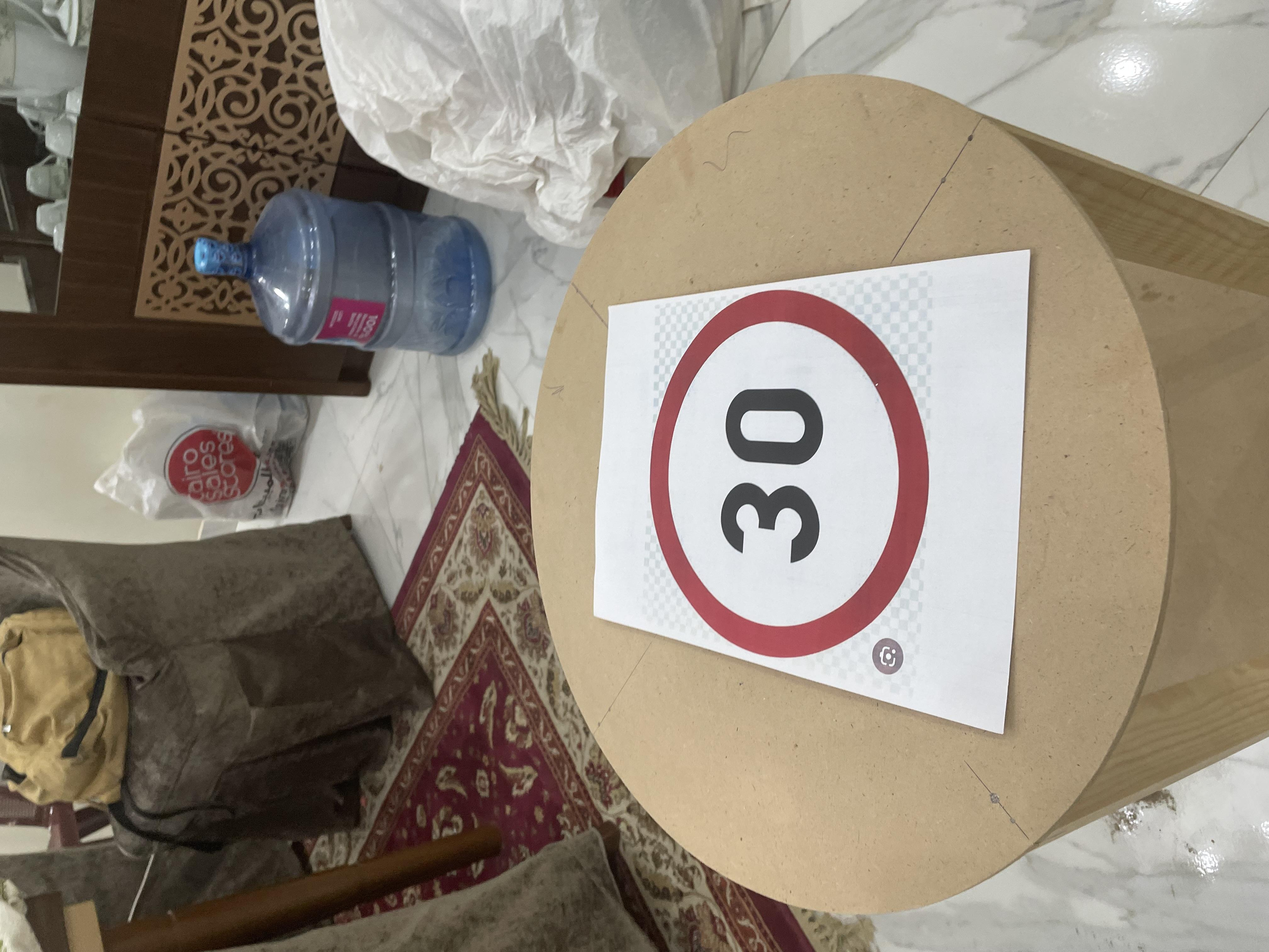30-speed: (383, 466, 905, 708)
